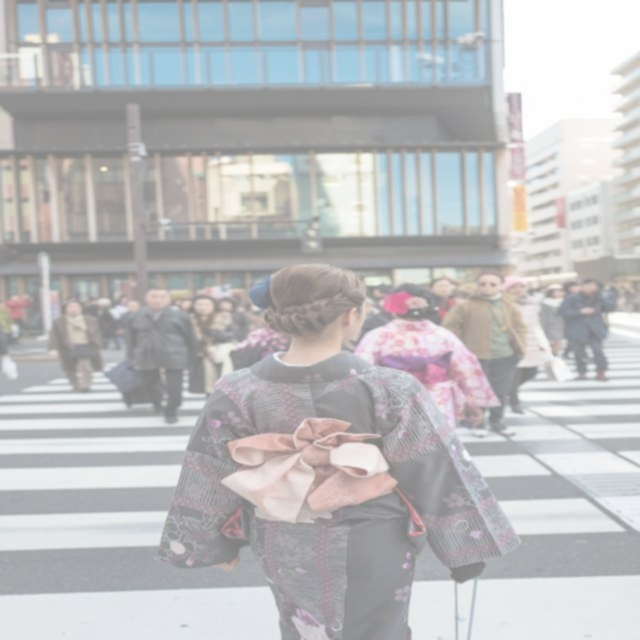pessoa: (148, 261, 532, 640), (352, 281, 504, 434), (437, 268, 534, 442), (104, 286, 200, 426), (500, 274, 556, 414), (554, 276, 620, 383), (44, 298, 106, 396), (184, 294, 238, 400), (88, 294, 144, 351), (537, 283, 568, 362), (362, 279, 394, 338), (600, 284, 636, 333), (426, 278, 456, 326), (4, 292, 36, 337), (217, 296, 250, 336), (236, 291, 268, 331), (0, 322, 20, 384), (448, 276, 479, 308), (172, 294, 198, 318), (531, 277, 550, 307), (562, 280, 582, 294)
